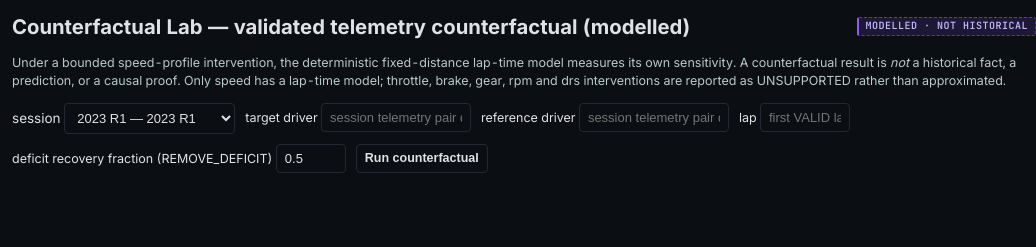
Test: CounterfactualView (Stitch Counterfactual Lab) › renders an honest unavailable state — never a synthetic trace
This screenshot has width=1036, height=247.
Click the button "Run counterfactual" at (422, 158), box [356, 144, 488, 173]
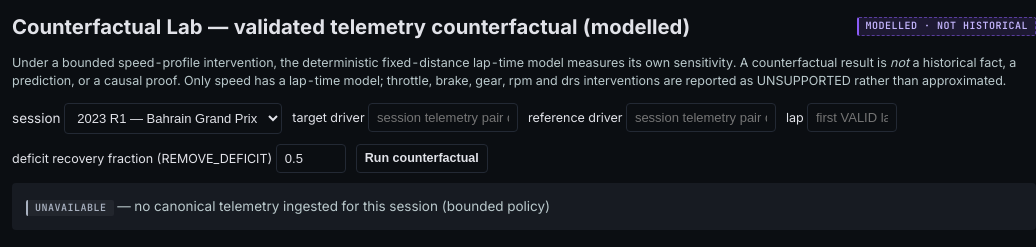
Result: the text "no canonical telemetry ingested for this session" is shown at [134, 198, 550, 214]
